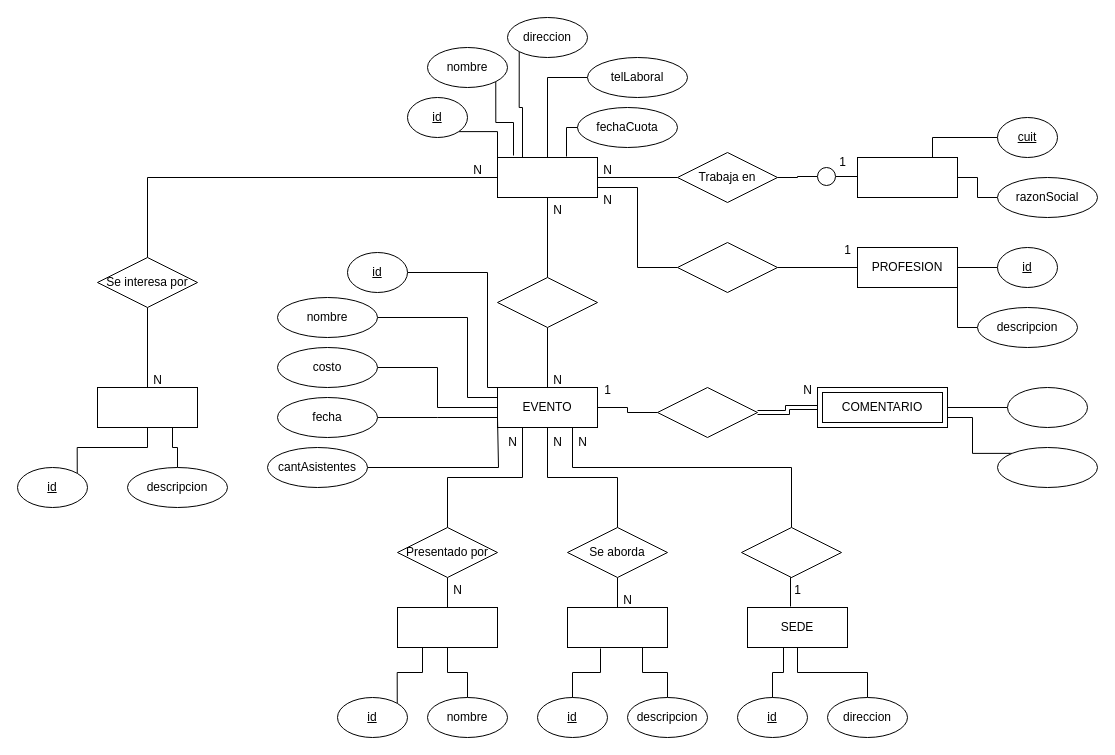
Some shapes in this 1115 by 755 pixel diagram are drawn without their labels. The centre of each missing label's shape, as x and y in pixels:
"AREA_ APLICACION" belongs at [147,407].
"Asiste a" belongs at [547,302].
"COMPAÑIA" belongs at [907,177].
"nro" belongs at [1047,407].
"ORADOR" belongs at [447,627].
"Recibe" belongs at [707,412].
"Se dedica a" belongs at [727,267].
"Se realiza en" belongs at [791,552].
"texto" belongs at [1047,467].
"TOPICO" belongs at [617,627].
"USUARIO" belongs at [547,177].
